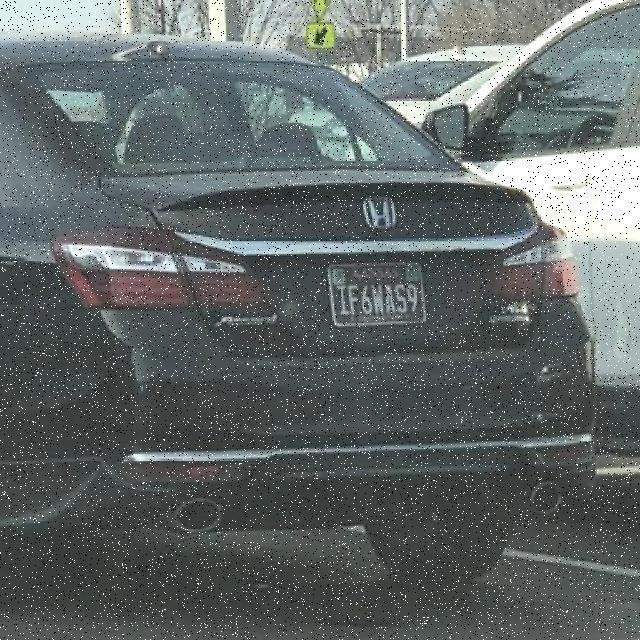LicensePlate: (325, 261, 428, 327)
